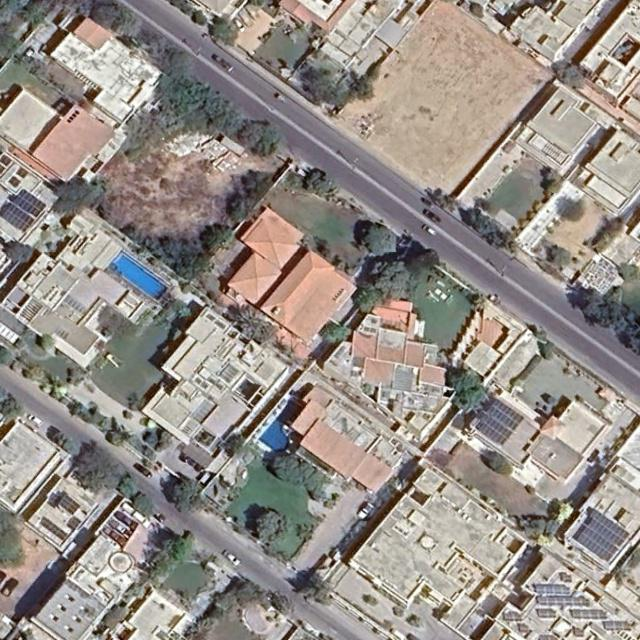solar panel: (37, 583, 103, 639), (576, 509, 630, 563), (470, 397, 524, 447), (9, 188, 47, 219), (0, 203, 35, 232), (39, 516, 66, 540), (58, 494, 81, 514), (538, 597, 592, 605), (570, 608, 608, 618), (533, 584, 570, 592), (605, 621, 633, 631), (501, 612, 527, 620), (536, 608, 557, 617)
